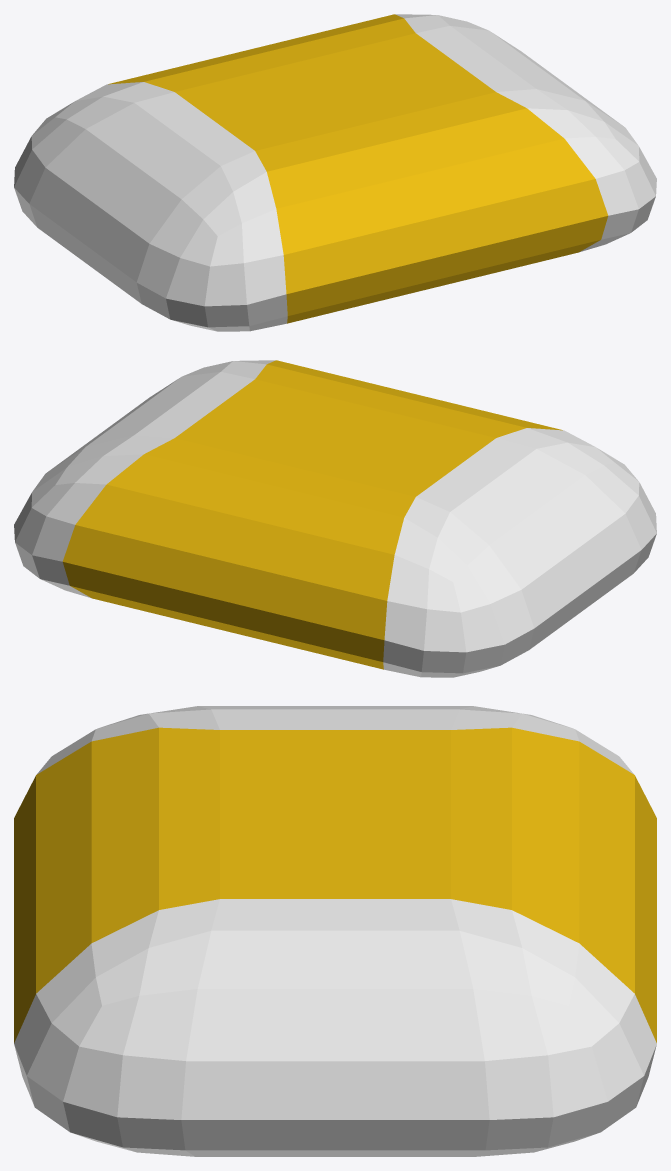
The model's file is Cement Bag A.glb.
3 renders of one model, top to bottom at view 1: azimuth 30°, elevation 25°; view 2: azimuth 150°, elevation 25°; view 3: azimuth 270°, elevation 25°, orthographic. The views are drawn at different scales.
Parts seen in each view (by area): view 1: Cement Bag A; view 2: Cement Bag A; view 3: Cement Bag A.
Part boxes in pixels (x1,y1,x2,y2): Cement Bag A: (14,14,656,331); Cement Bag A: (14,360,656,677); Cement Bag A: (14,706,656,1156).
Bounding box in the file's own units: 139 × 35.89 × 107.
